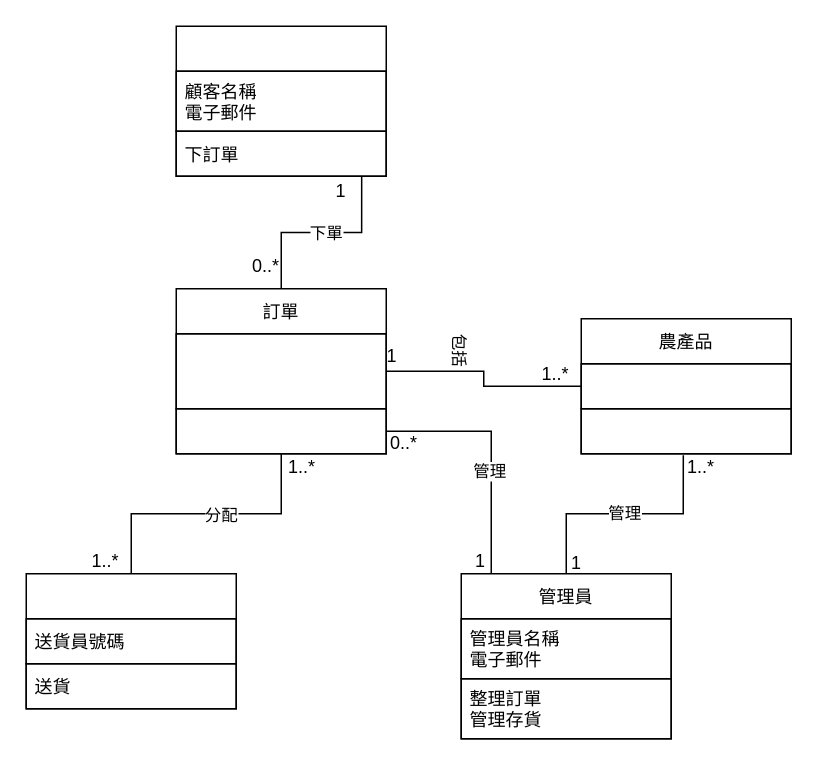
This 818x765 diagram has some shape labels left out. The shapes that lost their labels are listed below. From the top down, each one's box as (x1, y1, x2, y2) in pixels, then its label:
(175, 25, 386, 176): 顧客
(175, 332, 386, 409): 訂單編號 名稱 數量
(580, 362, 791, 409): 農產品編號
(25, 572, 236, 709): 物流人員
